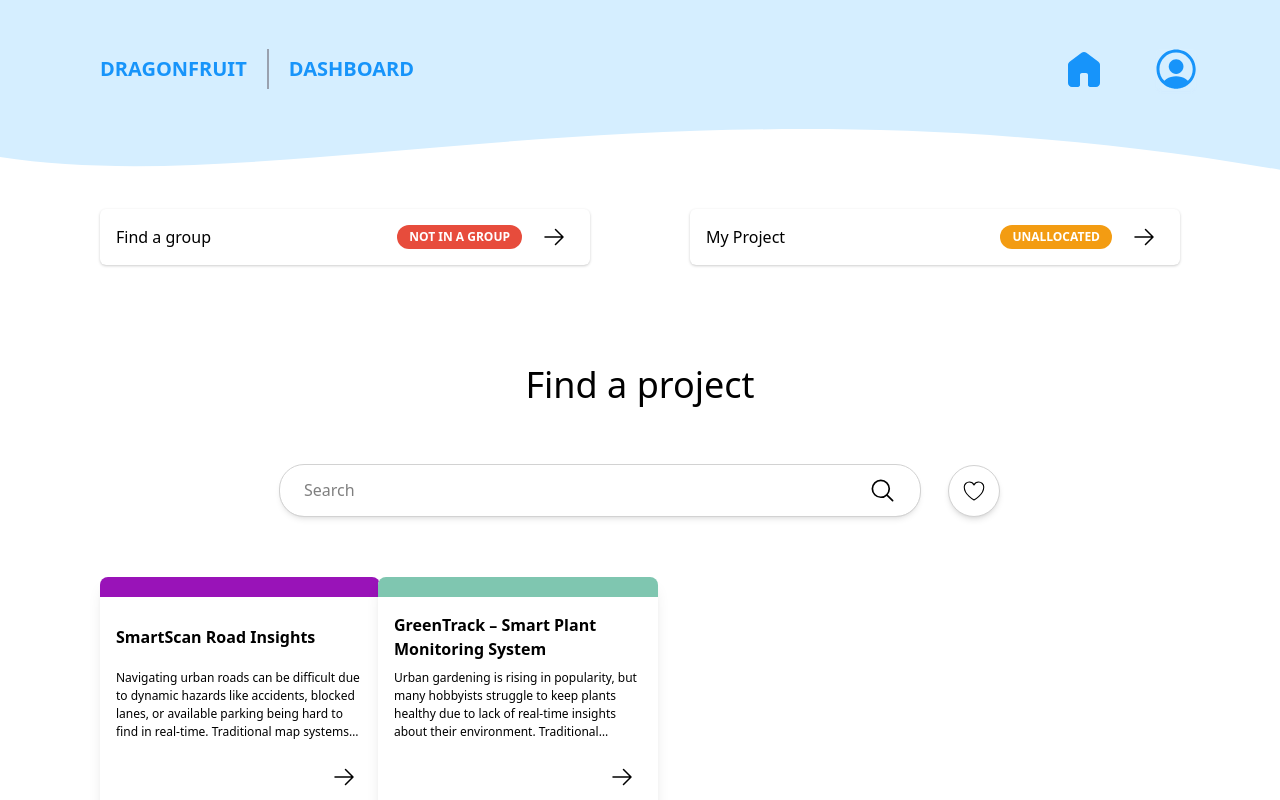
Student Dashboard Page (fixed) › if the user does not exist in a group
Expected: the text "NOT IN A GROUP" is shown, [409, 229, 510, 245]
# if i click into the group then it loads all groups table
Click the button with id "group-button". click: (554, 237)
box: [534, 217, 574, 257]
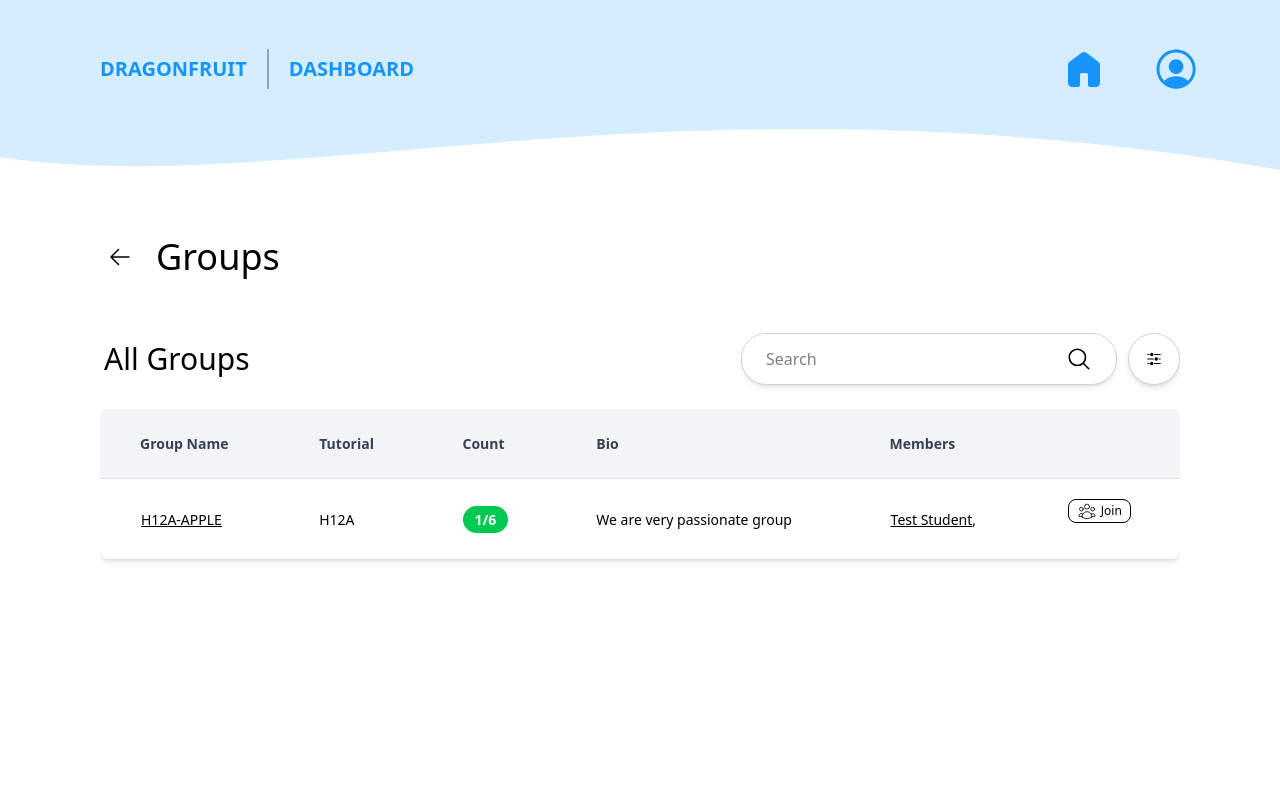
Now the heading "All Groups" is shown, box [104, 341, 250, 377]
Now the button "H12A-APPLE" is shown, box [140, 499, 223, 539]
Now the button "Test Student," is shown, box [890, 499, 977, 539]
